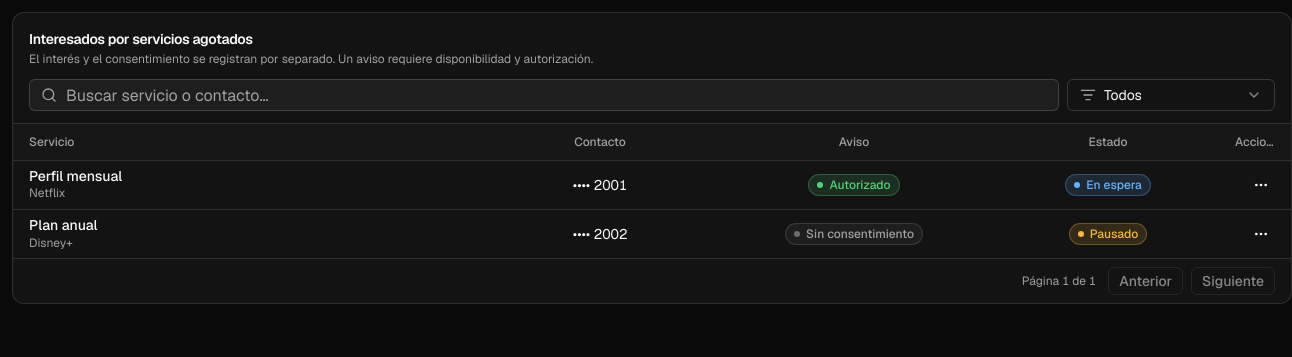
InterestsView › avisa al contacto autorizado sin incluir su teléfono en UI
Click the button named "Acciones del interés" in the row of "Perfil mensual". click: (1261, 184)
box: [1247, 170, 1275, 198]
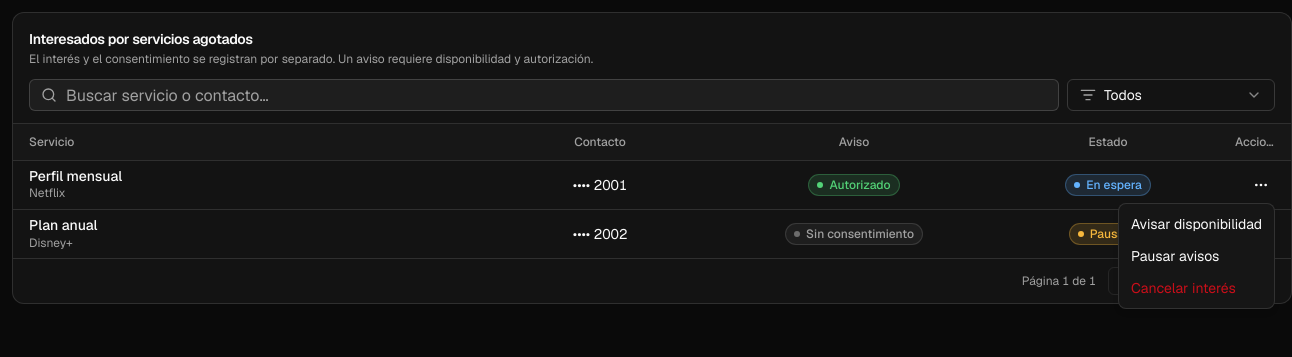
Click the menu item "Avisar disponibilidad". click: (1197, 224)
box: [1131, 215, 1262, 233]
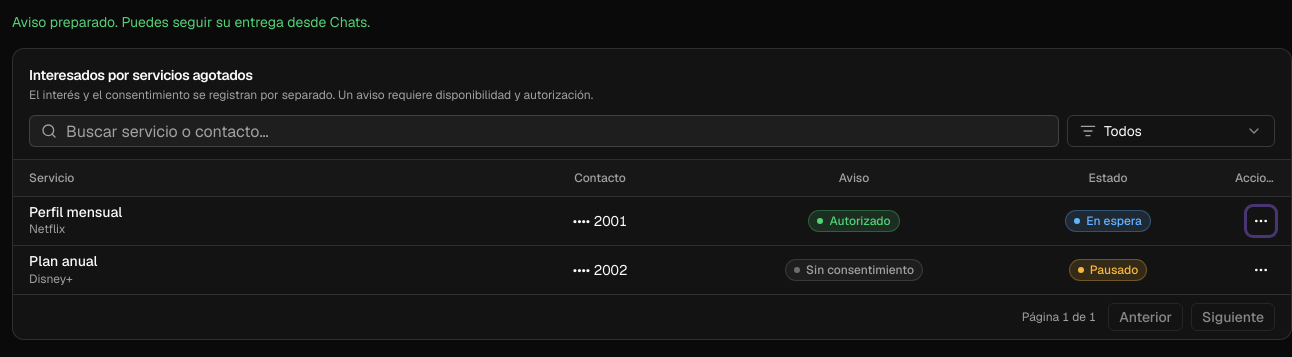
Expected: the message shows "Aviso preparado", [12, 13, 370, 31]
